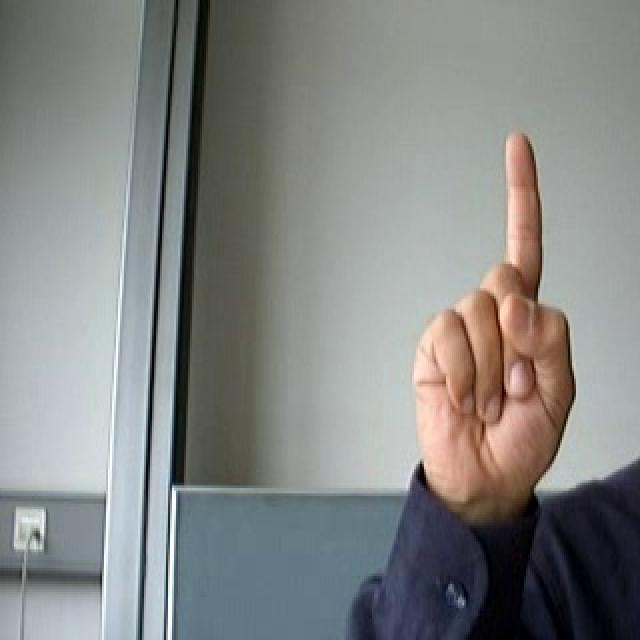D: (368, 87, 591, 544)
